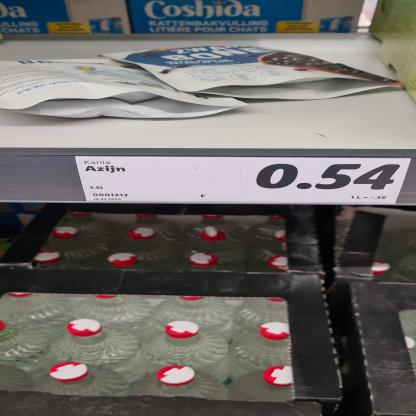prtg: (76, 157, 413, 205)
